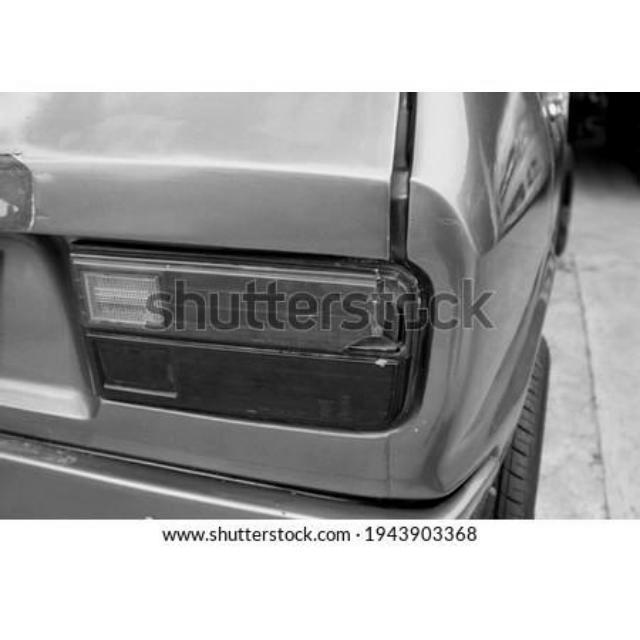Taillight-Damage: (291, 239, 448, 456)
